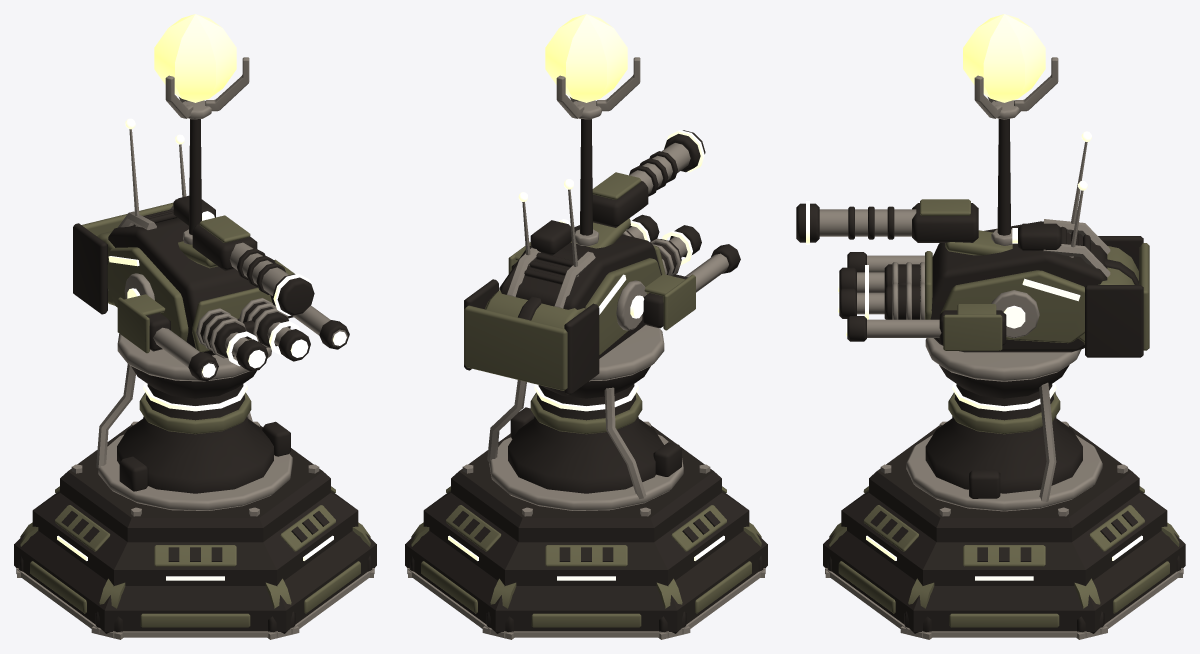
Rendered from tower_pulse.glb.
3 renders of one model, left to right at view 1: azimuth 30°, elevation 25°; view 2: azimuth 150°, elevation 25°; view 3: azimuth 270°, elevation 25°, orthographic.
Visible parts, largest first — view 1: base, turret, lvl3, tower_pulse, lvl2, barrel_2, barrel_1; view 2: base, turret, lvl3, tower_pulse, lvl2, barrel_2, barrel_1; view 3: base, turret, lvl3, lvl2, tower_pulse, barrel_1, barrel_2.
Boxes of the visible parts, x1,y1,x2,y2 form: base: [14, 364, 376, 639]; turret: [97, 57, 272, 381]; lvl3: [73, 134, 314, 315]; tower_pulse: [154, 14, 236, 102]; lvl2: [117, 259, 349, 381]; barrel_2: [196, 308, 268, 371]; barrel_1: [239, 298, 310, 361]; base: [405, 366, 767, 639]; turret: [485, 57, 665, 381]; lvl3: [464, 130, 705, 394]; tower_pulse: [545, 14, 627, 102]; lvl2: [508, 242, 740, 330]; barrel_2: [650, 225, 701, 275]; barrel_1: [622, 214, 659, 241]; base: [823, 365, 1185, 639]; turret: [898, 57, 1139, 381]; lvl3: [796, 180, 1149, 357]; lvl2: [846, 252, 1006, 350]; tower_pulse: [963, 14, 1045, 102]; barrel_1: [838, 282, 924, 319]; barrel_2: [838, 262, 924, 292].
Bounding box in the file's own units: 1.66 × 3.13 × 1.98.
